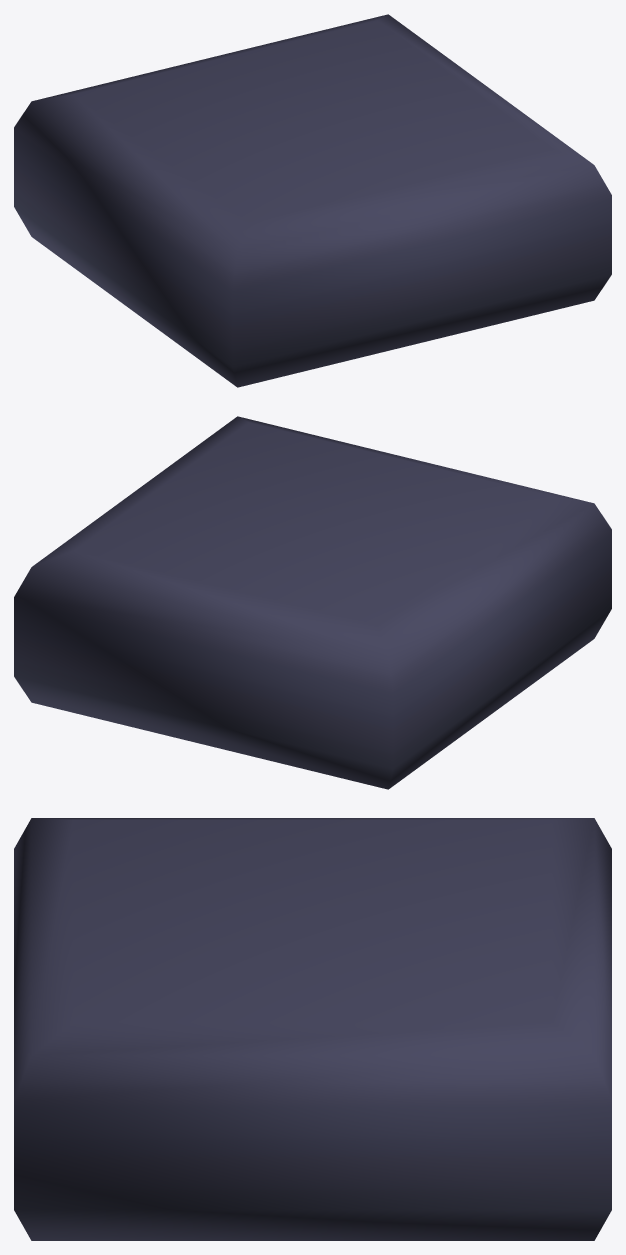
File: kenney-factory-conveyor-cross.glb
The picture shows the model from 3 angles, top to bottom: view 1: azimuth 30°, elevation 25°; view 2: azimuth 150°, elevation 25°; view 3: azimuth 270°, elevation 25°; orthographic projection. The views are drawn at different scales.
Visible parts, largest first — view 1: conveyor-cross; view 2: conveyor-cross; view 3: conveyor-cross.
Part boxes in pixels (left/top/right/bottom): conveyor-cross: left=14, top=14, right=611, bottom=387; conveyor-cross: left=14, top=416, right=611, bottom=789; conveyor-cross: left=14, top=818, right=611, bottom=1240.
Size of the model in its own units: 1 by 0.3999 by 1.
1 material, 1 textured.
